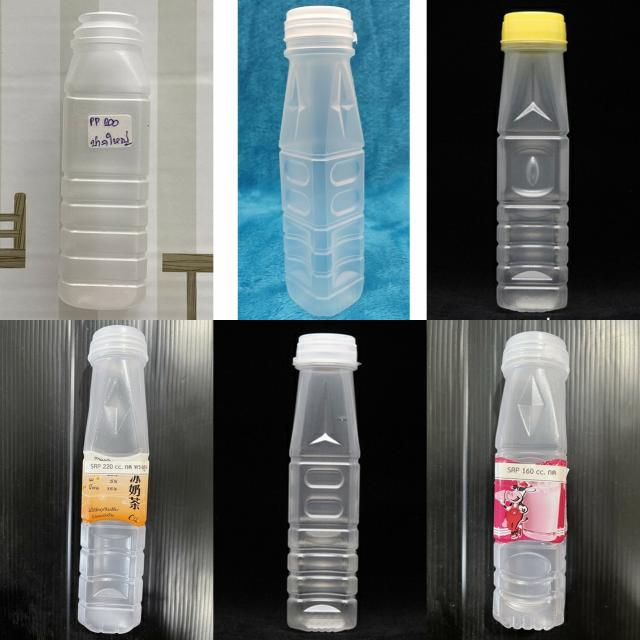Single-Use-Plastic: (58, 11, 151, 310), (279, 6, 365, 316), (492, 332, 570, 630), (496, 11, 569, 311), (78, 325, 149, 633), (288, 333, 360, 632)
